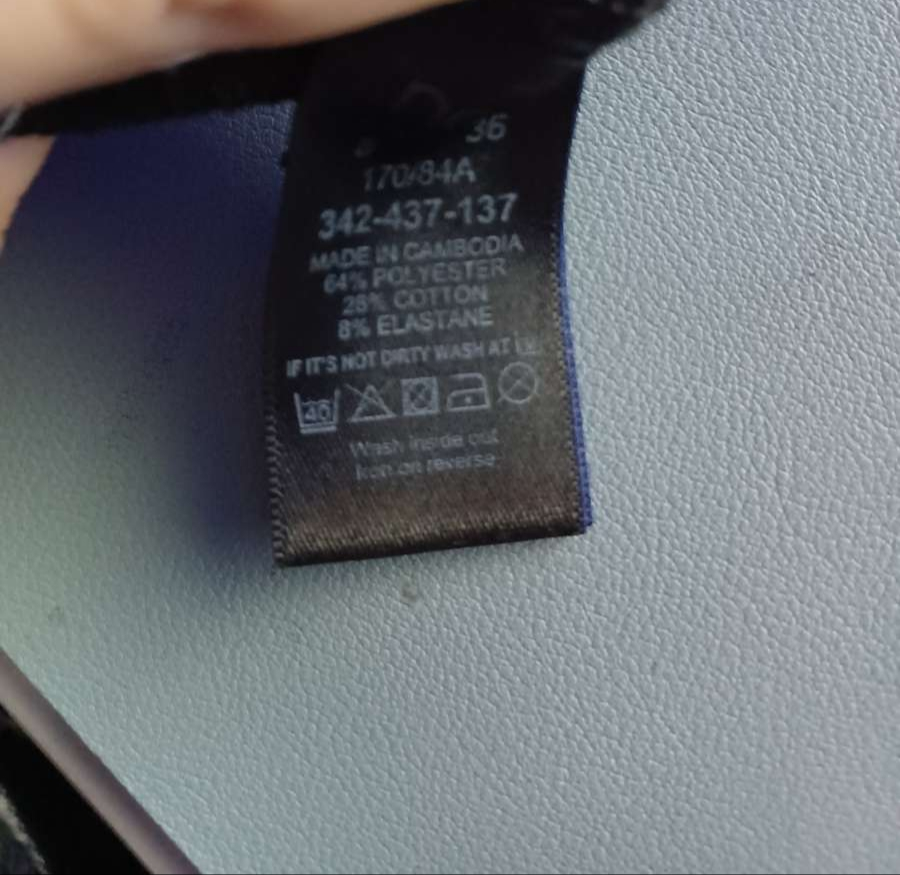do not bleach: (350, 380, 400, 438)
do not tumble dry: (492, 358, 560, 424), (396, 373, 443, 427)
iron low temp: (437, 371, 494, 420)
wash at or below 40: (283, 389, 347, 440)
